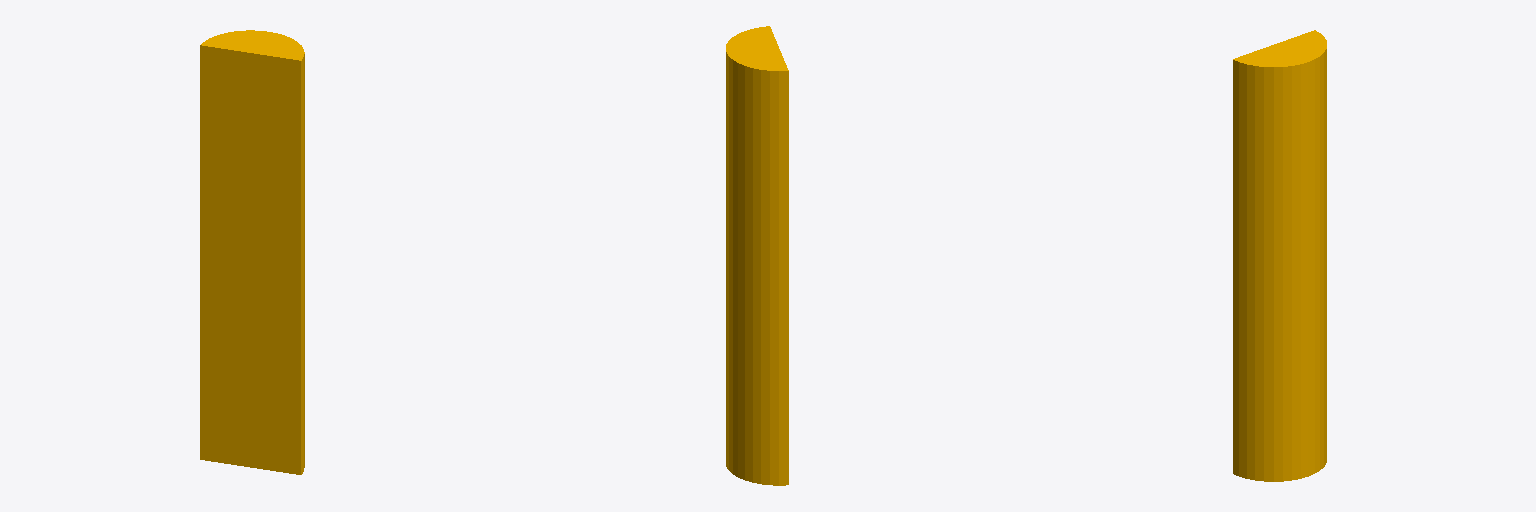
Rendered from lift.obj.
3 renders of one model, left to right at view 1: azimuth 30°, elevation 25°; view 2: azimuth 150°, elevation 25°; view 3: azimuth 270°, elevation 25°, orthographic.
Visible parts, largest first — view 1: Cylinder011; view 2: Cylinder011; view 3: Cylinder011.
Part boxes in pixels (left/top/right/bottom): Cylinder011: left=200, top=30, right=304, bottom=474; Cylinder011: left=726, top=26, right=788, bottom=485; Cylinder011: left=1233, top=30, right=1326, bottom=481.
Bounding box in the file's own units: 0.1293 × 0.6693 × 0.139.